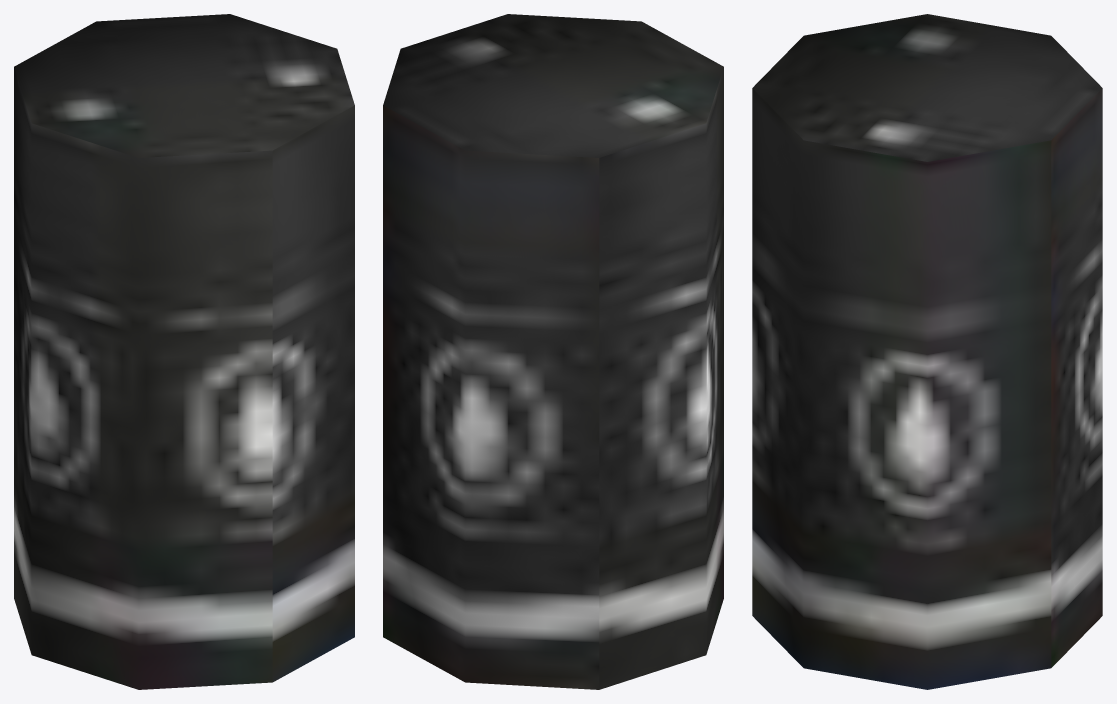
File: barrel_oil.glb
3 views of the same model, side by side, from view 1: azimuth 30°, elevation 25°; view 2: azimuth 150°, elevation 25°; view 3: azimuth 270°, elevation 25° (orthographic).
Visible parts, largest first — view 1: barrel_oil; view 2: barrel_oil; view 3: barrel_oil.
Boxes of the visible parts, x1,y1,x2,y2 form: barrel_oil: (14, 14, 354, 689); barrel_oil: (383, 14, 723, 689); barrel_oil: (752, 14, 1102, 689).
Bounding box in the file's own units: 0.48 × 0.7983 × 0.48.
Materials: 1 (1 with a texture image).
